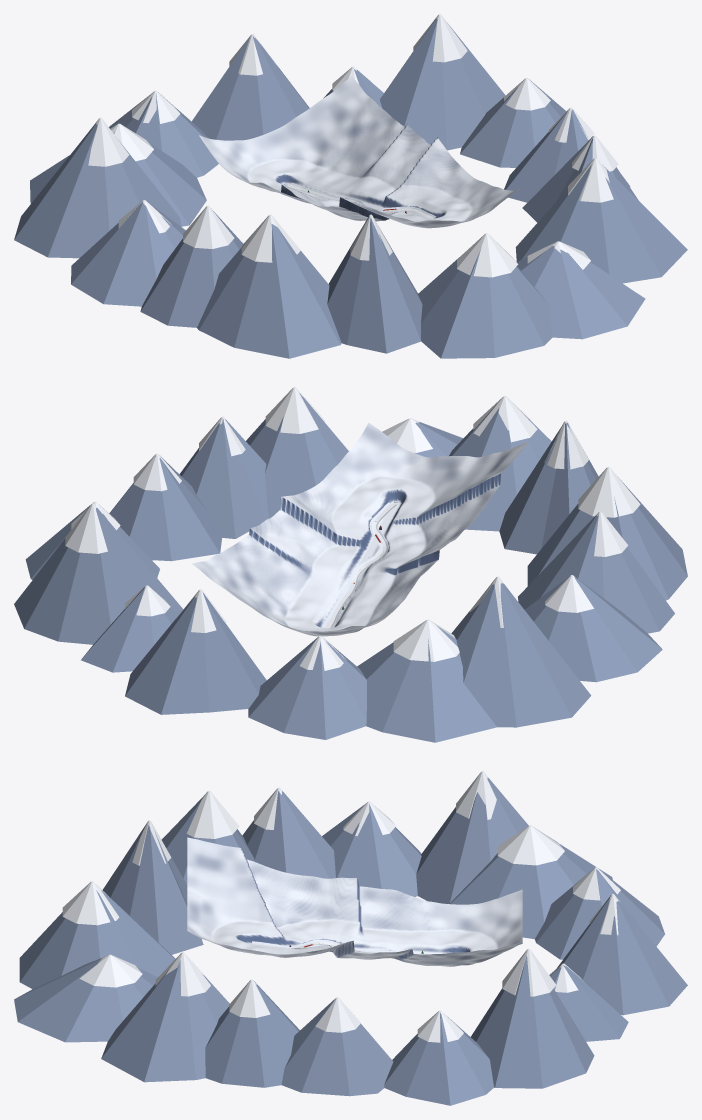
File: festival_boreal.glb
3 renders of one model, top to bottom at view 1: azimuth 30°, elevation 25°; view 2: azimuth 150°, elevation 25°; view 3: azimuth 270°, elevation 25°, orthographic. The views are drawn at different scales.
Parts seen in each view (by area): view 1: terrain, mtn6, mtn4, mtn9, mtn2, mtn14, mtn5, mtn3, mtn8, mtn12, mtn7, mtn15 (+19 smaller); view 2: terrain, mtn9, mtn14, mtn12, mtn10, mtn11, mtn8, mtn7, mtn0, mtn1, mtn5, mtn2 (+19 smaller); view 3: terrain, mtn14, mtn2, mtn12, mtn4, mtn3, mtn9, mtn0, mtn5, mtn1, mtn15, mtn10 (+20 smaller).
Part boxes in pixels (x1,y1,x2,y2): terrain: (199, 76, 519, 228); mtn6: (197, 224, 341, 358); mtn4: (418, 247, 552, 358); mtn9: (14, 123, 181, 258); mtn2: (515, 164, 687, 283); mtn14: (380, 18, 505, 150); mtn5: (327, 216, 422, 353); mtn3: (516, 246, 645, 339); mtn8: (71, 201, 185, 306); mtn12: (192, 36, 309, 140); mtn7: (140, 208, 243, 327); mtn15: (460, 79, 566, 167); terrain: (192, 423, 529, 636); mtn9: (451, 583, 591, 727); mtn14: (14, 508, 183, 644); mtn12: (125, 592, 266, 714); mtn10: (357, 625, 496, 742); mtn11: (248, 637, 366, 739); mtn8: (524, 576, 662, 682); mtn7: (518, 515, 674, 633); mtn0: (109, 455, 221, 561); mtn1: (179, 419, 268, 538); mtn5: (499, 423, 598, 554); mtn2: (246, 393, 348, 518); terrain: (187, 837, 522, 966); mtn14: (471, 955, 594, 1088); mtn2: (101, 960, 229, 1082); mtn12: (557, 895, 687, 1015); mtn4: (19, 890, 175, 988); mtn3: (14, 957, 157, 1042); mtn9: (416, 778, 528, 903); mtn0: (281, 998, 393, 1096); mtn5: (102, 823, 203, 954); mtn1: (205, 981, 299, 1087); mtn15: (384, 1012, 493, 1105); mtn10: (450, 838, 612, 939).
Size of what is drawn, in the model's own units: 2698 by 515 by 2894.
